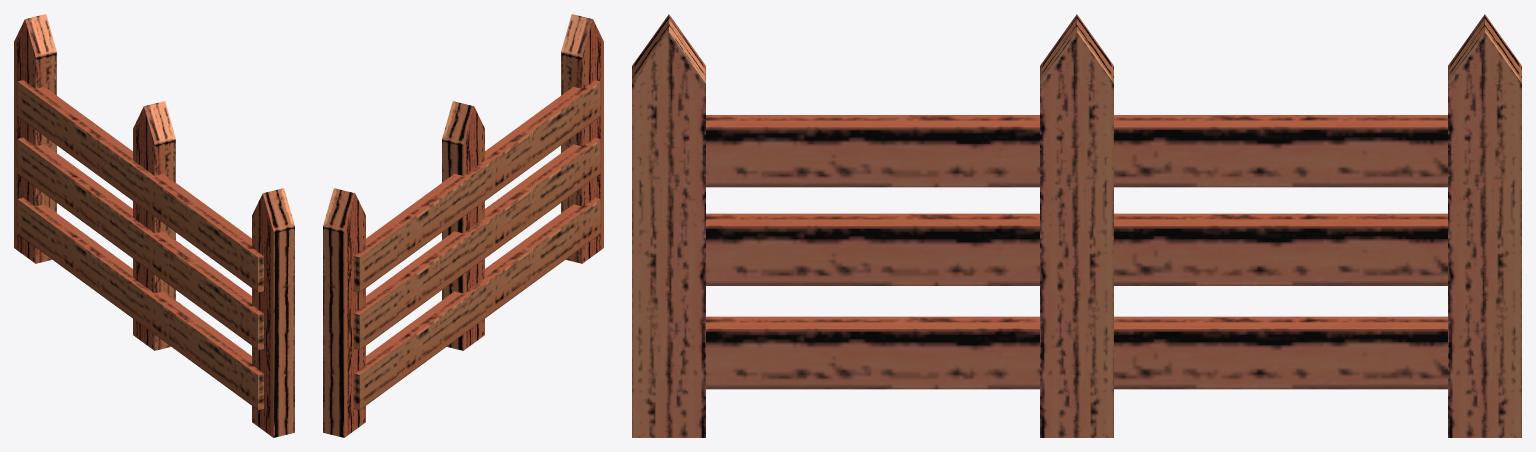
Rendered from Fence.fbx.
3 renders of one model, left to right at view 1: azimuth 30°, elevation 25°; view 2: azimuth 150°, elevation 25°; view 3: azimuth 270°, elevation 25°, orthographic. The views are drawn at different scales.
Visible parts, largest first — view 1: pCube7; view 2: pCube7; view 3: pCube7.
Boxes of the visible parts, left/top/right/bottom form: pCube7: left=14, top=14, right=294, bottom=437; pCube7: left=323, top=14, right=603, bottom=437; pCube7: left=632, top=14, right=1521, bottom=437.
Bounding box in the file's own units: 21.31 × 176 × 350.
